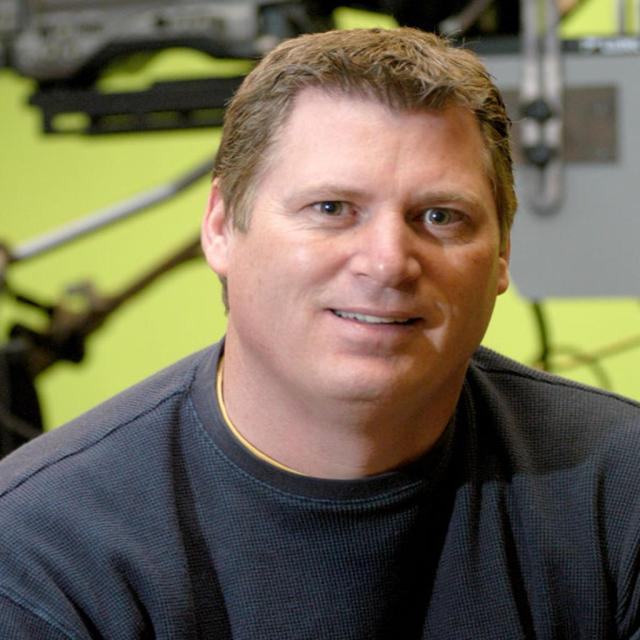Face: (244, 69, 527, 397)
